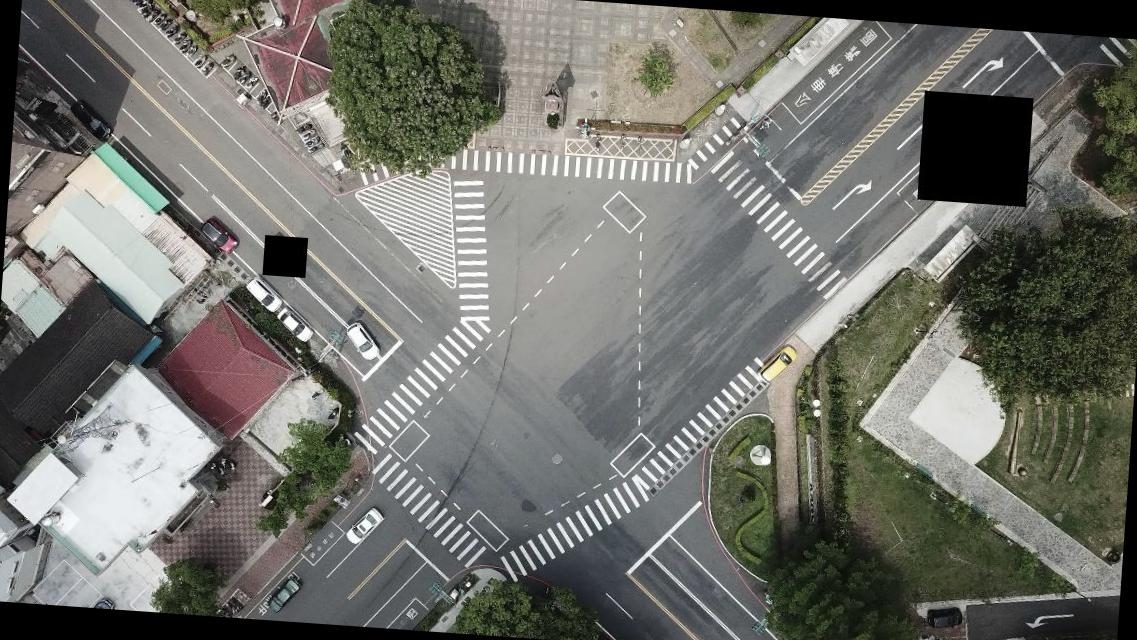vehicle: (755, 342, 798, 386), (69, 100, 111, 142), (344, 320, 384, 363), (276, 306, 316, 348), (198, 217, 241, 256), (344, 506, 385, 546), (243, 275, 283, 313), (265, 576, 301, 615), (926, 606, 964, 630), (92, 596, 118, 608)
